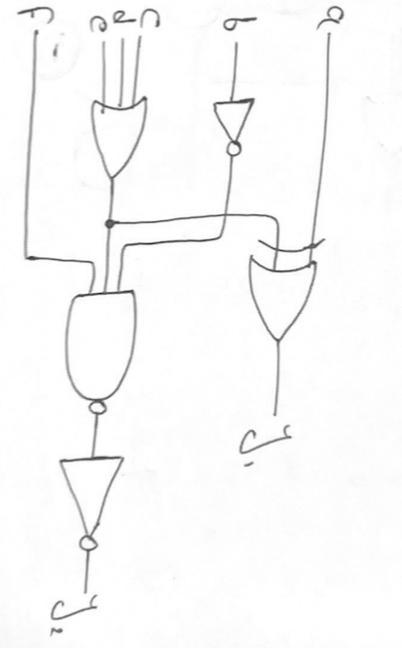NAND: (53, 284, 156, 427)
NOT: (51, 451, 139, 557), (206, 88, 272, 167)
OR: (81, 90, 170, 191)
XOR: (240, 232, 346, 352)
